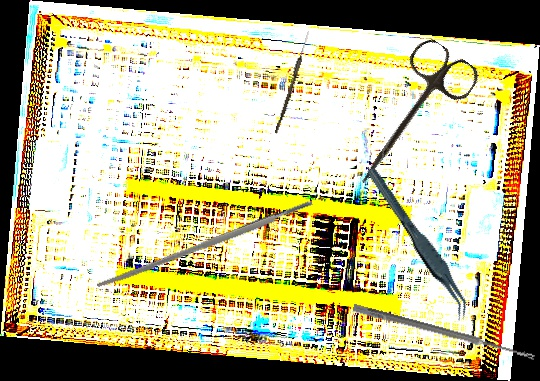Iris Scissors: (336, 33, 484, 205)
Scalpel Handle: (95, 199, 315, 291)
Surgical Spoon: (352, 303, 536, 362), (274, 30, 311, 135)
Tissue Forceps: (365, 156, 474, 330)
